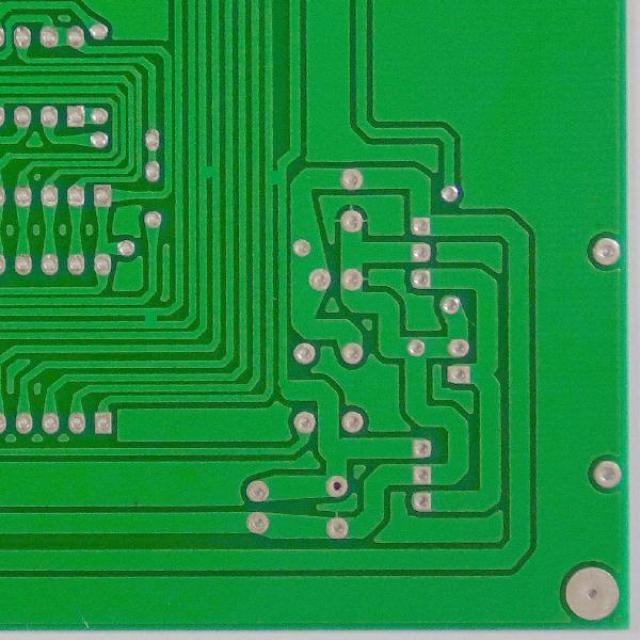Missing_Hole: (324, 474, 350, 498)
Short_Circuit: (258, 162, 291, 192), (136, 303, 166, 333), (195, 158, 223, 187)
